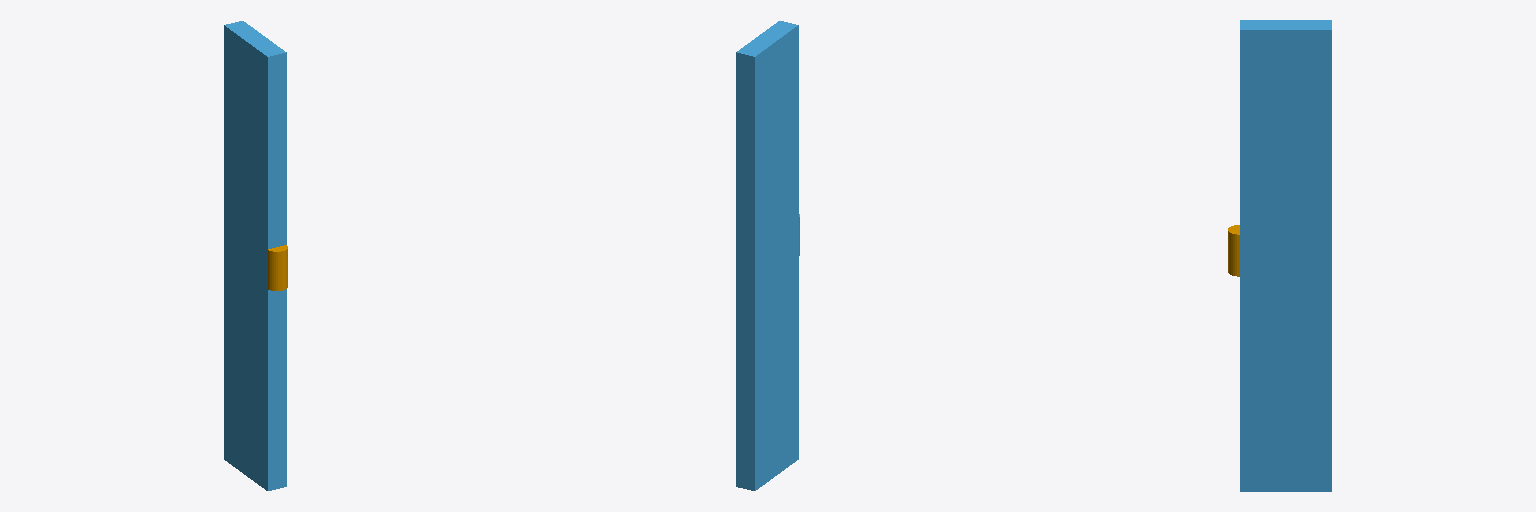
URDF robot description (Work_room_door):
<robot name="Work_room_door">

  <link name="base_link">
    <visual>
      <origin xyz="0 0 1.125" rpy="0 0 0" />
      <geometry>
        <cylinder length="0.2" radius="0.05"/>
      </geometry>
    </visual>
  </link>

  <link name="door">
     <inertial>
      <origin xyz="0 0 0"/> 
      <mass value="5.0" />
      <inertia  ixx="1.0" ixy="0.0"  ixz="0.0"  iyy="100.0"  iyz="0.0"  izz="1.0" />
    </inertial>
    <visual>
      <origin xyz="0 0.2 0" rpy="0 0 0" />
      <geometry>
        <box size="0.1 .4 2.2"/>
      </geometry>
    </visual>
  </link>

  <joint name="door_hinge" type="revolute">
    <parent link="base_link"/>
    <child link="door"/>
    <origin xyz="0 0 1.1"/>
    <axis xyz="0 0 1"/>
    <limit effort="15.0" lower="-1.57" upper="1.57" velocity="1"/>
  </joint>

</robot>

--- Render facts (derived) ---
Views: 3 orthographic renders of the robot side by side, from view 1: azimuth 30°, elevation 25°; view 2: azimuth 150°, elevation 25°; view 3: azimuth 270°, elevation 25°.
Model Work_room_door with 2 links and 1 joints (1 revolute), rooted at base_link, posed every joint at zero.
Links seen in each view (by area): view 1: door, base_link; view 2: door; view 3: door, base_link.
Link boxes in pixels (bbox=[...]): door: bbox=[224, 21, 286, 490]; base_link: bbox=[268, 245, 287, 290]; door: bbox=[736, 21, 798, 490]; door: bbox=[1240, 20, 1331, 491]; base_link: bbox=[1228, 225, 1239, 276].
Bounding box of the posed robot: 0.1 × 0.45 × 2.2 m (x, y, z).
Geometry: primitives only (box / cylinder / sphere), no mesh files.
